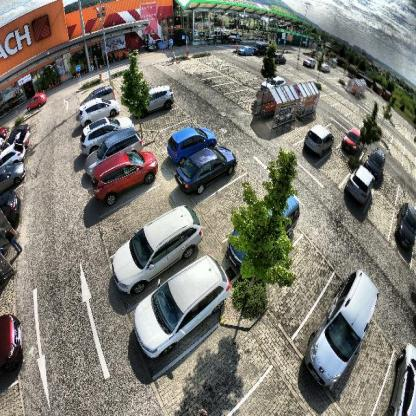free: (198, 334, 244, 404), (281, 247, 329, 308), (251, 372, 311, 415), (355, 348, 394, 403), (215, 183, 254, 220), (120, 194, 157, 225), (158, 126, 177, 148), (157, 107, 180, 124)
occupied: (136, 284, 217, 362), (117, 224, 196, 292), (307, 290, 368, 374), (237, 192, 302, 257), (94, 150, 156, 202), (186, 146, 227, 194), (98, 128, 146, 162), (173, 124, 211, 162), (142, 81, 176, 112), (80, 120, 115, 150), (80, 99, 116, 122), (84, 86, 121, 98)
